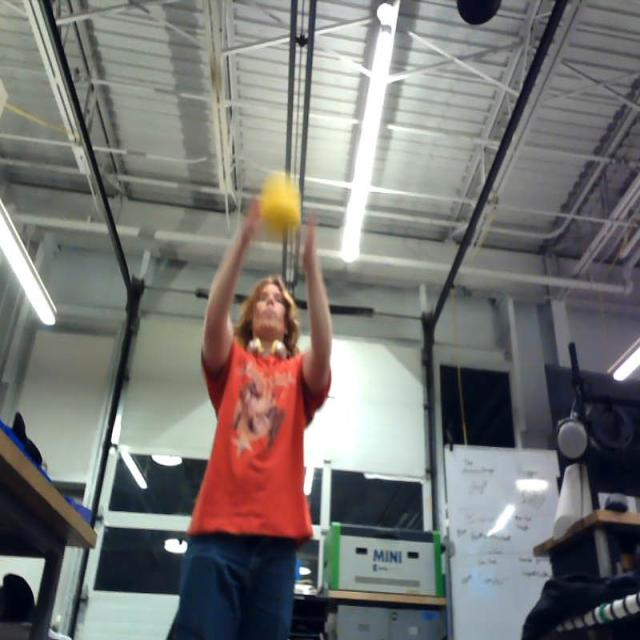Fuel: (260, 185, 301, 235)
